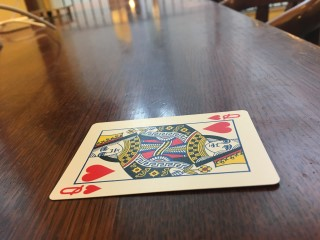QueenOfHearts: (49, 110, 280, 199)
